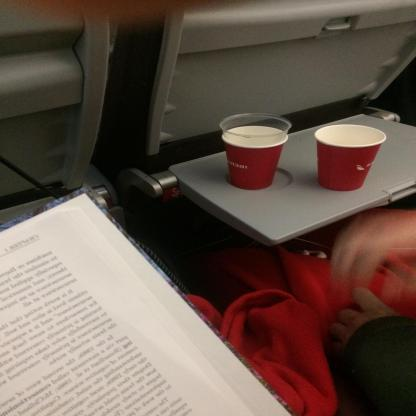karton: (315, 126, 387, 192), (227, 127, 289, 191)
